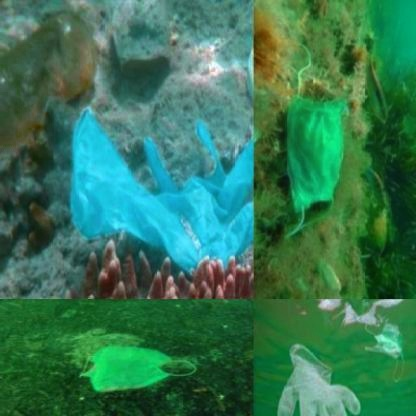Mask: (276, 39, 349, 243), (78, 345, 199, 392), (359, 316, 414, 389)
glove: (70, 121, 253, 264), (273, 341, 361, 415)
